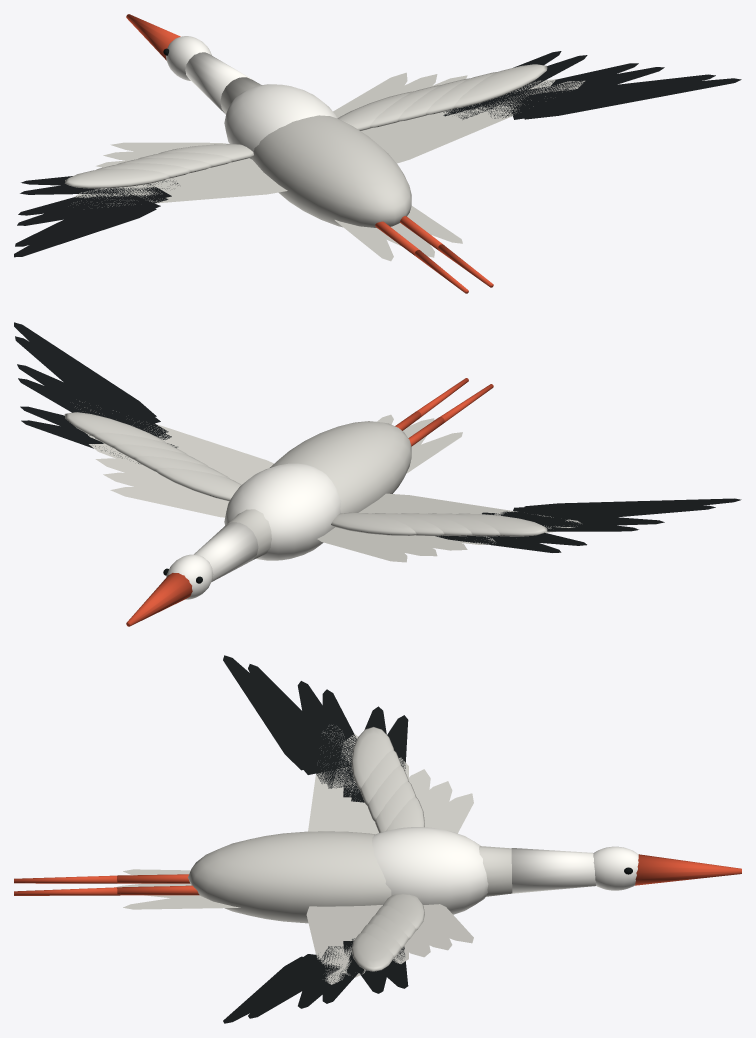
Rendered from stork-flight-v1.glb.
The picture shows the model from 3 angles, top to bottom: view 1: azimuth 30°, elevation 25°; view 2: azimuth 150°, elevation 25°; view 3: azimuth 270°, elevation 25°; orthographic projection. The views are drawn at different scales.
Parts seen in each view (by area): view 1: Body, Chest, Wing_R_White_06, Wing_R_Black_06, Wing_L_Black_07, Wing_R_Black_07, Wing_R_Black_04, Wing_R_Covert_04, Wing_L_Black_06, Neck_Upper, Wing_L_Black_04, Wing_L_Covert_04 (+27 smaller); view 2: Body, Chest, Wing_R_Black_06, Neck_Upper, Wing_R_Black_04, Wing_L_Black_07, Wing_R_White_00, Wing_R_White_05, Wing_R_Black_07, Wing_R_Covert_00, Wing_R_Black_03, Wing_L_Black_06 (+27 smaller); view 3: Body, Chest, Wing_L_Black_06, Neck_Upper, Wing_L_Black_07, Wing_L_Black_03, Wing_L_Black_04, Beak, Wing_R_Black_06, Wing_R_White_06, Head, Wing_L_White_05 (+26 smaller).
Part boxes in pixels (<box>): Body: <box>252,115,411,227</box>; Chest: <box>224,84,337,159</box>; Wing_R_White_06: <box>371,80,584,163</box>; Wing_R_Black_06: <box>510,74,715,119</box>; Wing_L_Black_07: <box>14,199,156,257</box>; Wing_R_Black_07: <box>524,78,741,119</box>; Wing_R_Black_04: <box>481,67,664,118</box>; Wing_R_Covert_04: <box>454,64,547,108</box>; Wing_L_Black_06: <box>15,193,160,246</box>; Neck_Upper: <box>185,52,252,114</box>; Wing_L_Black_04: <box>17,189,168,225</box>; Wing_L_Covert_04: <box>64,168,170,188</box>; Body: <box>270,421,411,513</box>; Chest: <box>224,463,341,560</box>; Wing_R_Black_06: <box>15,336,160,424</box>; Neck_Upper: <box>194,522,258,581</box>; Wing_R_Black_04: <box>17,364,168,436</box>; Wing_L_Black_07: <box>524,498,741,521</box>; Wing_R_White_00: <box>110,487,226,517</box>; Wing_R_White_05: <box>155,436,267,484</box>; Wing_R_Black_07: <box>14,322,156,417</box>; Wing_R_Covert_00: <box>154,467,241,501</box>; Wing_R_Black_03: <box>18,378,171,439</box>; Wing_L_Black_06: <box>513,505,715,518</box>; Body: <box>188,831,391,923</box>; Chest: <box>372,827,488,914</box>; Wing_L_Black_06: <box>248,664,349,774</box>; Neck_Upper: <box>511,848,595,893</box>; Wing_L_Black_07: <box>223,655,341,770</box>; Wing_L_Black_03: <box>322,689,356,788</box>; Wing_L_Black_04: <box>297,681,353,783</box>; Beak: <box>635,854,741,885</box>; Wing_R_Black_06: <box>248,954,342,1018</box>; Wing_R_White_06: <box>306,906,368,984</box>; Head: <box>593,846,638,890</box>; Wing_L_White_05: <box>321,733,370,831</box>.
Bounding box in the file's own units: 2.96 × 0.31 × 2.47.
